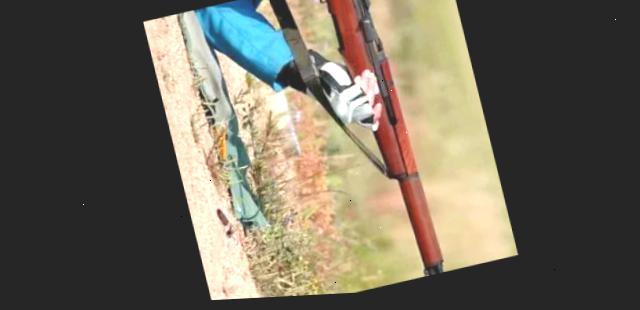rifle: (269, 0, 451, 299)
